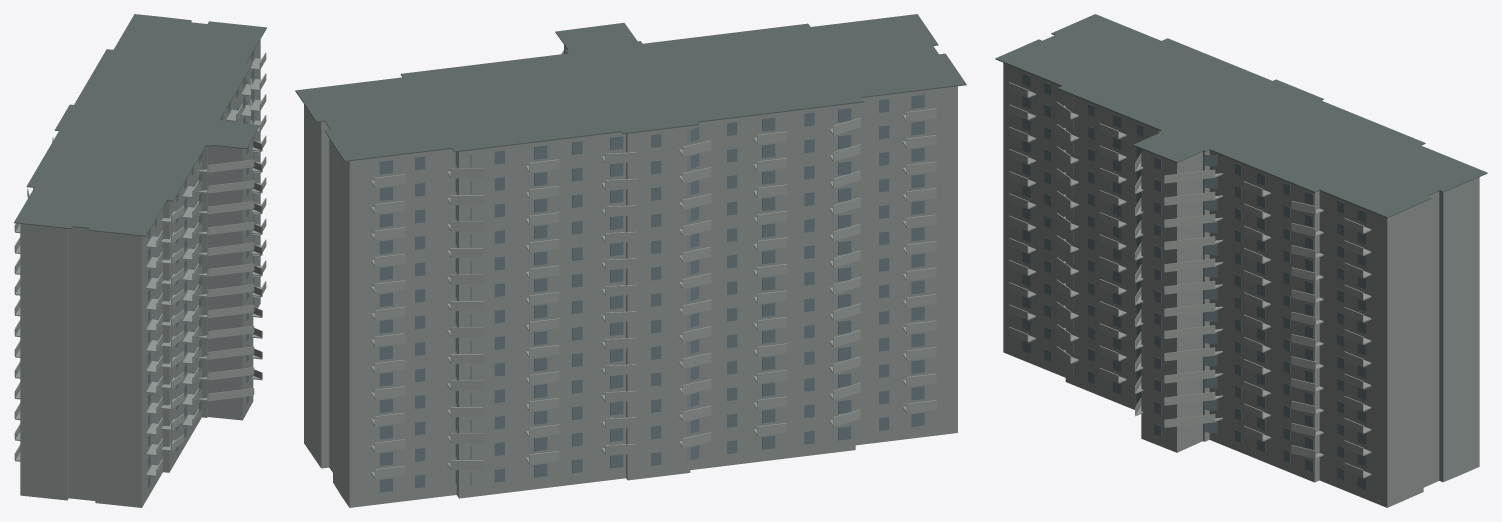
File: glen-erin-retained-existing-footprint-study.glb
3 renders of one model, left to right at view 1: azimuth 30°, elevation 25°; view 2: azimuth 150°, elevation 25°; view 3: azimuth 270°, elevation 25°, orthographic. The views are drawn at different scales.
Parts seen in each view (by area): view 1: glen-erin-retained-existing-wall, glen-erin-retained-existing-roof, glen-erin-retained-existing-slab, glen-erin-retained-existing-glass; view 2: glen-erin-retained-existing-wall, glen-erin-retained-existing-roof, glen-erin-retained-existing-slab, glen-erin-retained-existing-glass; view 3: glen-erin-retained-existing-wall, glen-erin-retained-existing-roof, glen-erin-retained-existing-slab, glen-erin-retained-existing-glass.
Boxes of the visible parts, x1=… form: glen-erin-retained-existing-wall: x1=20, y1=39, x2=260, y2=507; glen-erin-retained-existing-roof: x1=14, y1=14, x2=266, y2=236; glen-erin-retained-existing-slab: x1=14, y1=52, x2=266, y2=476; glen-erin-retained-existing-glass: x1=148, y1=50, x2=254, y2=488; glen-erin-retained-existing-wall: x1=304, y1=45, x2=957, y2=507; glen-erin-retained-existing-roof: x1=295, y1=14, x2=966, y2=161; glen-erin-retained-existing-slab: x1=371, y1=50, x2=936, y2=479; glen-erin-retained-existing-glass: x1=379, y1=94, x2=924, y2=492; glen-erin-retained-existing-wall: x1=1003, y1=62, x2=1479, y2=507; glen-erin-retained-existing-roof: x1=995, y1=14, x2=1487, y2=217; glen-erin-retained-existing-slab: x1=1008, y1=82, x2=1371, y2=478; glen-erin-retained-existing-glass: x1=1022, y1=73, x2=1365, y2=489.
Bounding box in the file's own units: 58.87 × 39.7 × 60.24.
